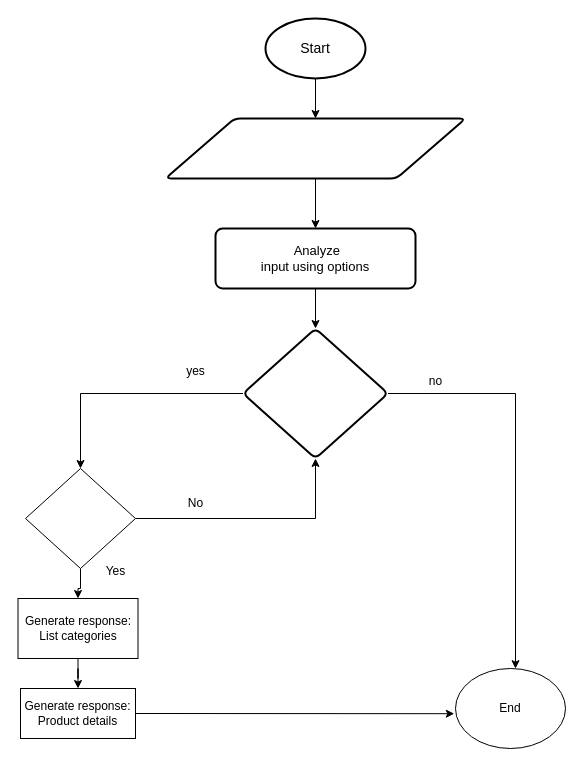
Image size: 583x766. Some labels were removed from this diagram. The shapes that lost their labels are listed below. From the top down, each one's centre as x and y in pixels, then its label:
At (x=315, y=148): "User Input : User select options as a request".
At (x=315, y=393): "Intent Recognition: Determine user intent".
At (x=80, y=518): "Select Product Category".
